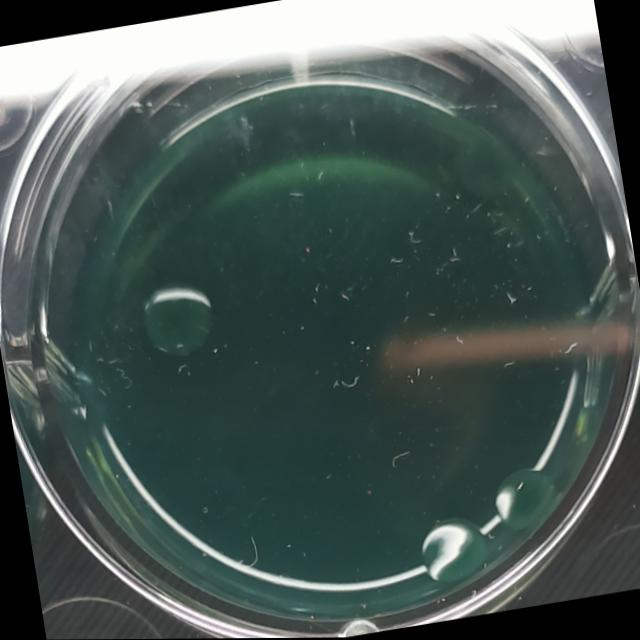vibrio: (132, 272, 228, 369), (404, 509, 498, 603), (487, 455, 566, 537), (446, 128, 520, 213)
